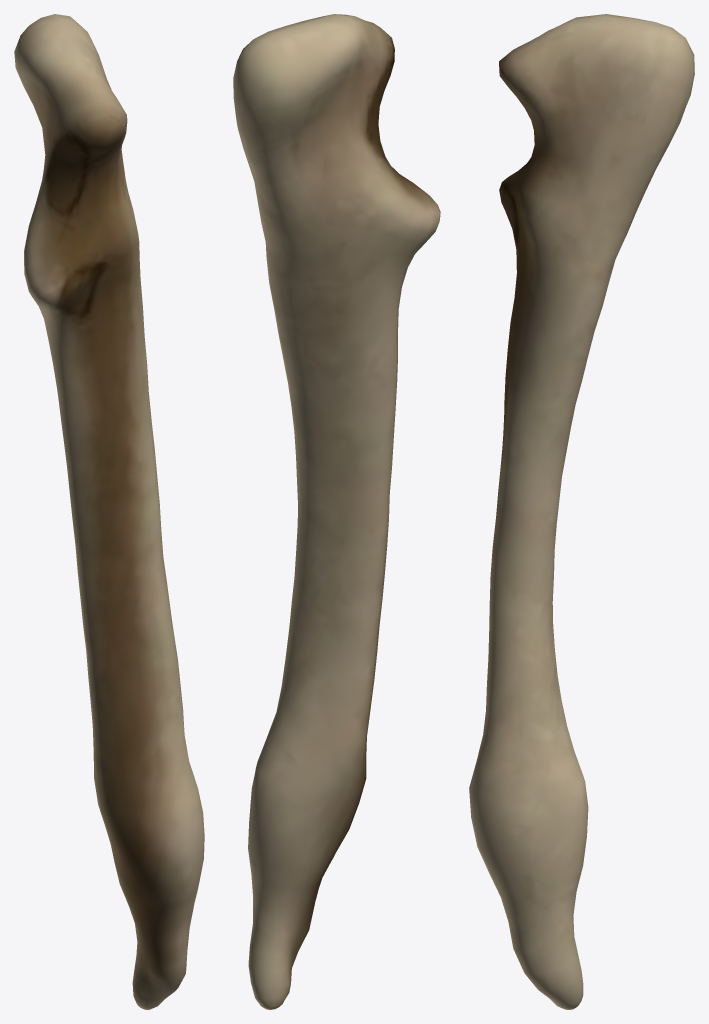
File: Ulna.glb
3 renders of one model, left to right at view 1: azimuth 30°, elevation 25°; view 2: azimuth 150°, elevation 25°; view 3: azimuth 270°, elevation 25°, orthographic. The views are drawn at different scales.
Parts seen in each view (by area): view 1: polySurface1; view 2: polySurface1; view 3: polySurface1.
Part boxes in pixels (x1=…): polySurface1: x1=14, y1=14, x2=204, y2=1009; polySurface1: x1=233, y1=14, x2=440, y2=1009; polySurface1: x1=469, y1=14, x2=694, y2=1009.
Size of the model in its own units: 23.85 by 135 by 28.68.
1 material, 1 textured.
